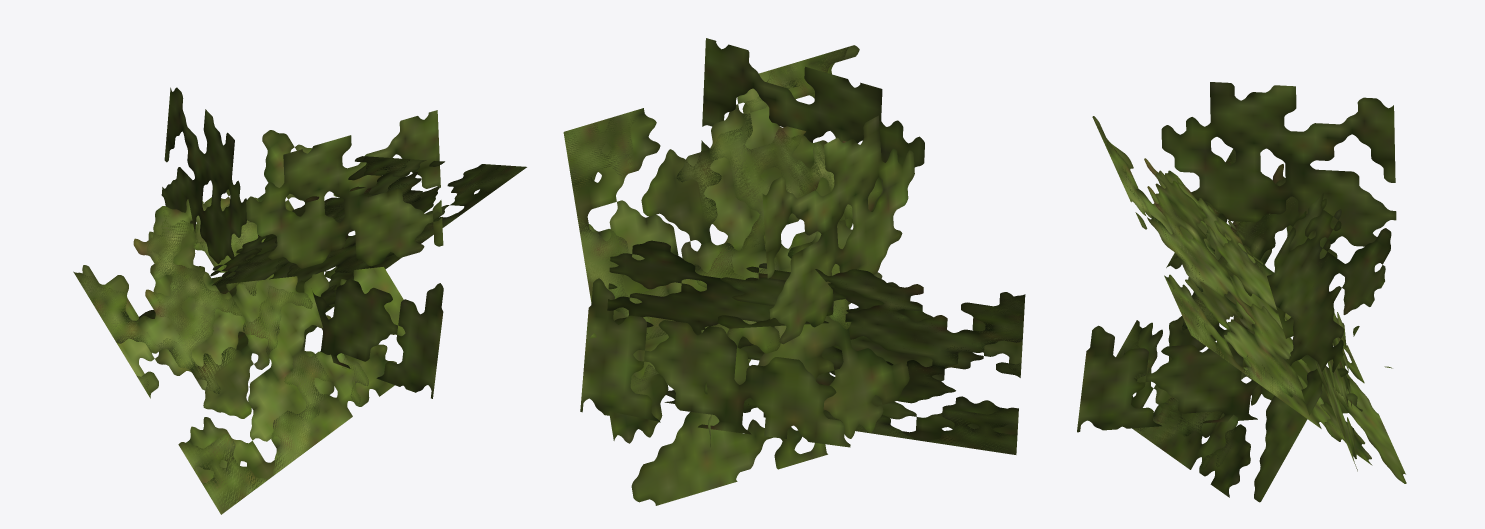
Rendered from oak_leaves_yellowish_slab_upper.obj.
The picture shows the model from 3 angles, left to right: view 1: azimuth 30°, elevation 25°; view 2: azimuth 150°, elevation 25°; view 3: azimuth 270°, elevation 25°; orthographic projection. The views are drawn at different scales.
Visible parts, largest first — view 1: cube; view 2: cube; view 3: cube.
Boxes of the visible parts, bbox=[...] form: cube: bbox=[73, 87, 526, 514]; cube: bbox=[563, 38, 1025, 505]; cube: bbox=[1077, 82, 1406, 502].
Size of the model in its own units: 2.99 by 2.22 by 2.1.
